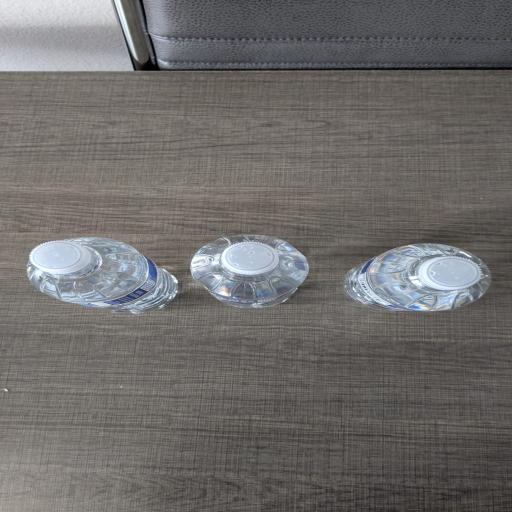waterbottle: (28, 237, 177, 313), (345, 244, 490, 311), (191, 235, 308, 308)
